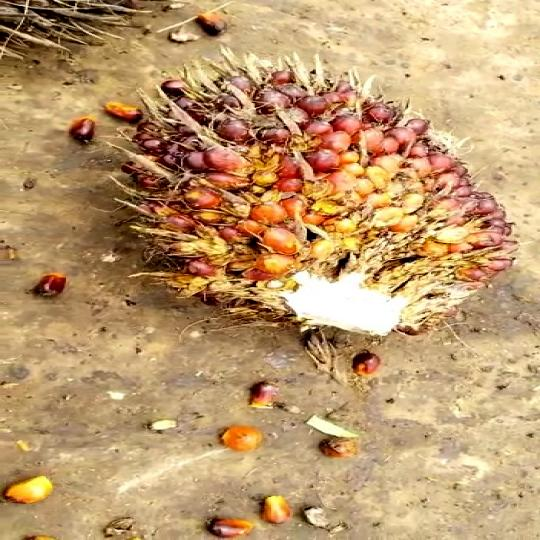masak: (87, 56, 528, 356)
